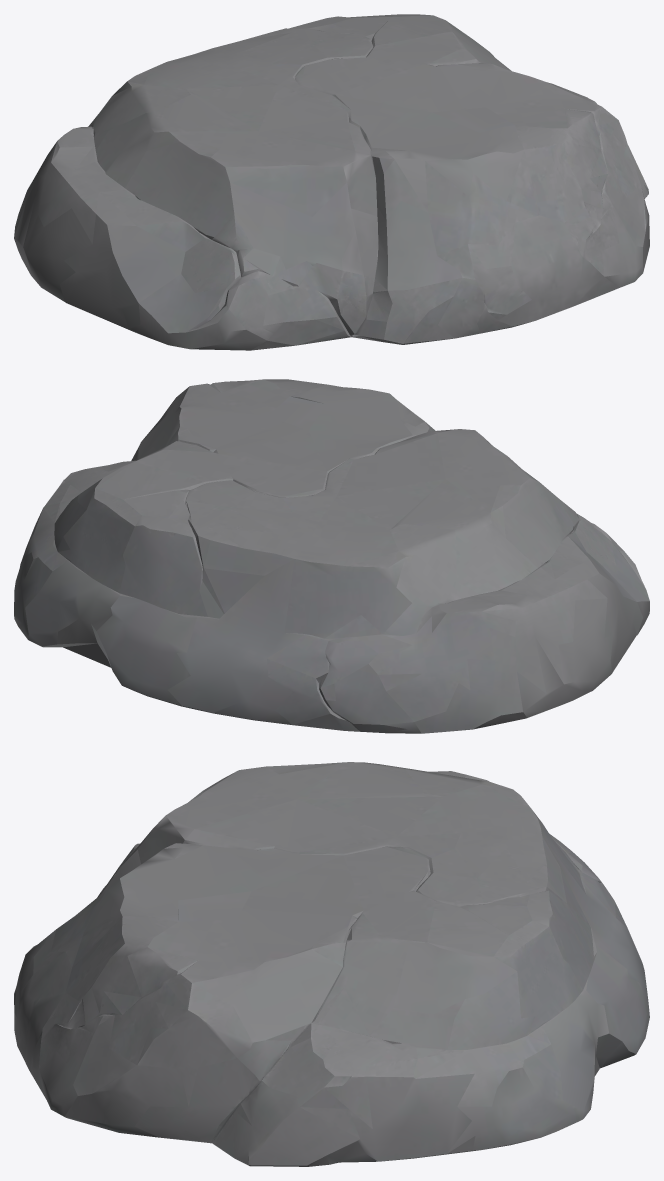
The model's file is rock-large.glb.
3 views of the same model, one above another, from view 1: azimuth 30°, elevation 25°; view 2: azimuth 150°, elevation 25°; view 3: azimuth 270°, elevation 25° (orthographic). The views are drawn at different scales.
Parts seen in each view (by area): view 1: nature-rock-large-fit; view 2: nature-rock-large-fit; view 3: nature-rock-large-fit.
Boxes of the visible parts, x1,y1,x2,y2 form: nature-rock-large-fit: (14, 14, 649, 350); nature-rock-large-fit: (14, 379, 649, 733); nature-rock-large-fit: (14, 762, 649, 1166).
Size of the model in its own units: 4.34 by 1.04 by 3.75.
1 material, 1 textured.
